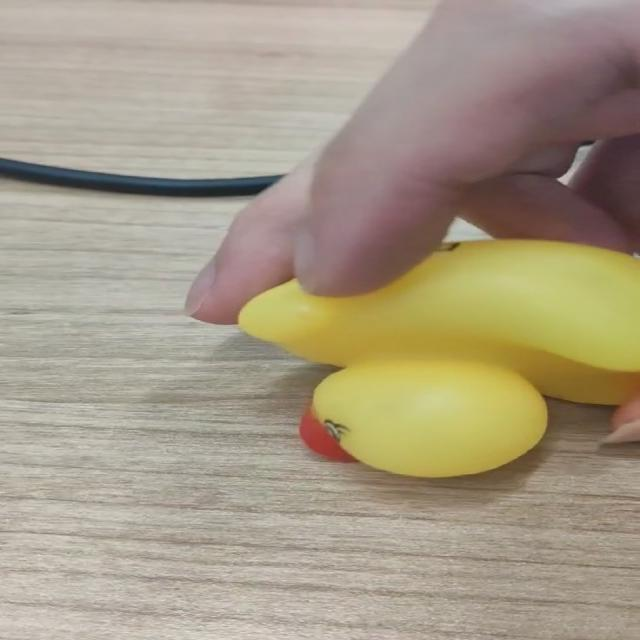rubber-duck: (238, 239, 638, 475)
